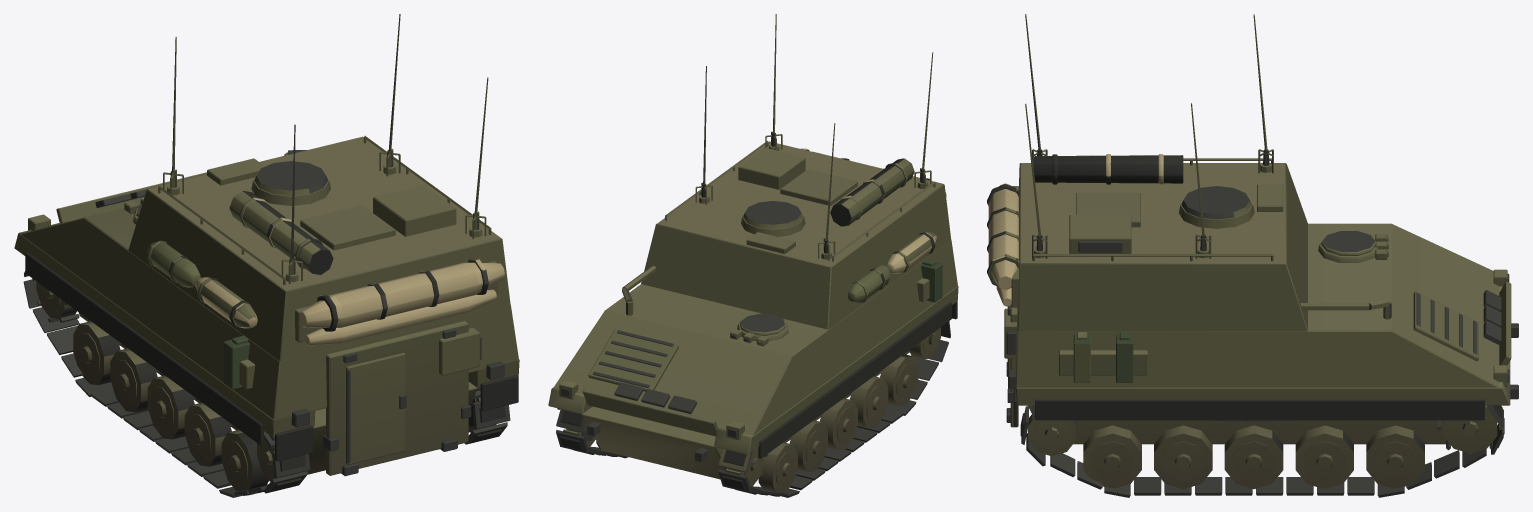
File: mafik.glb
The picture shows the model from 3 angles, left to right: view 1: azimuth 30°, elevation 25°; view 2: azimuth 150°, elevation 25°; view 3: azimuth 270°, elevation 25°; orthographic projection. The views are drawn at different scales.
Visible parts, largest first — view 1: hull, roof_fit, tracks, tent_stowage; view 2: hull, roof_fit, tracks, tent_stowage; view 3: hull, tracks, roof_fit, tent_stowage.
Boxes of the visible parts, x1,y1,x2,y2 form: hull: (14,136,519,476); roof_fit: (25,14,518,461); tracks: (23,271,510,497); tent_stowage: (95,189,504,389); hull: (548,141,958,479); roof_fit: (557,14,957,462); tracks: (556,321,950,497); tent_stowage: (614,148,946,413); hull: (1004,163,1510,444); tracks: (1020,405,1504,497); roof_fit: (1007,14,1518,426); tent_stowage: (987,154,1501,382).
Bounding box in the file's own units: 2.92 × 4.21 × 5.26.
